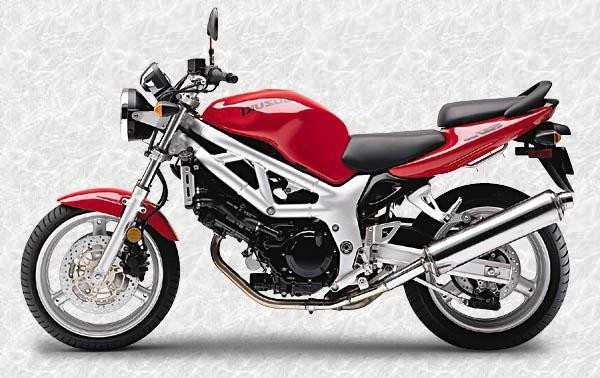motorcycle: (2, 15, 585, 365)
